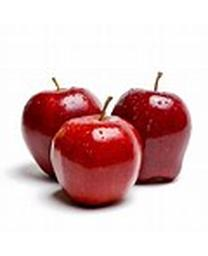apple: (48, 96, 144, 208), (112, 72, 191, 186), (20, 77, 103, 179)
